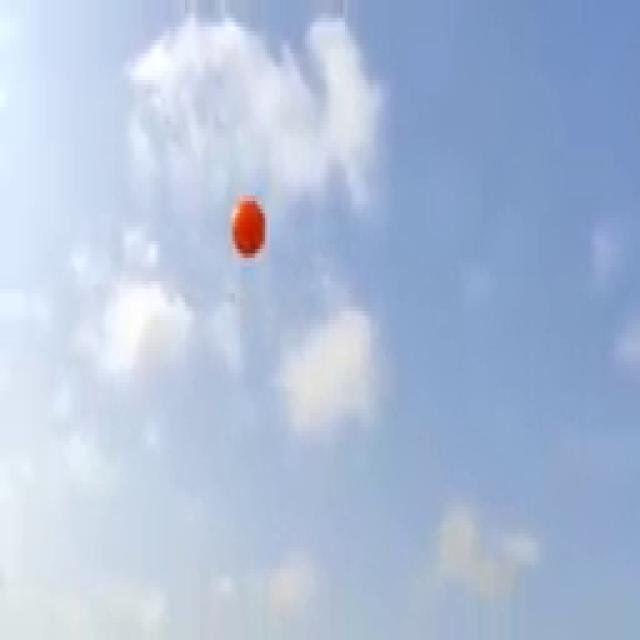red: (229, 194, 266, 258)
